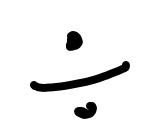div: (30, 31, 130, 119)
